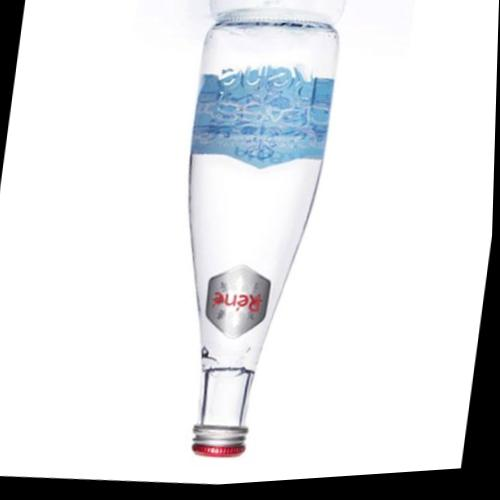glass: (191, 0, 337, 457)
